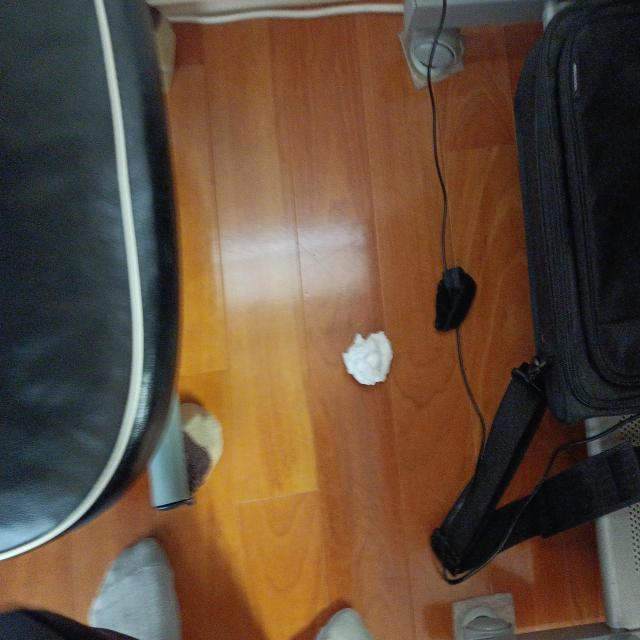Paper: (340, 333, 403, 390)
